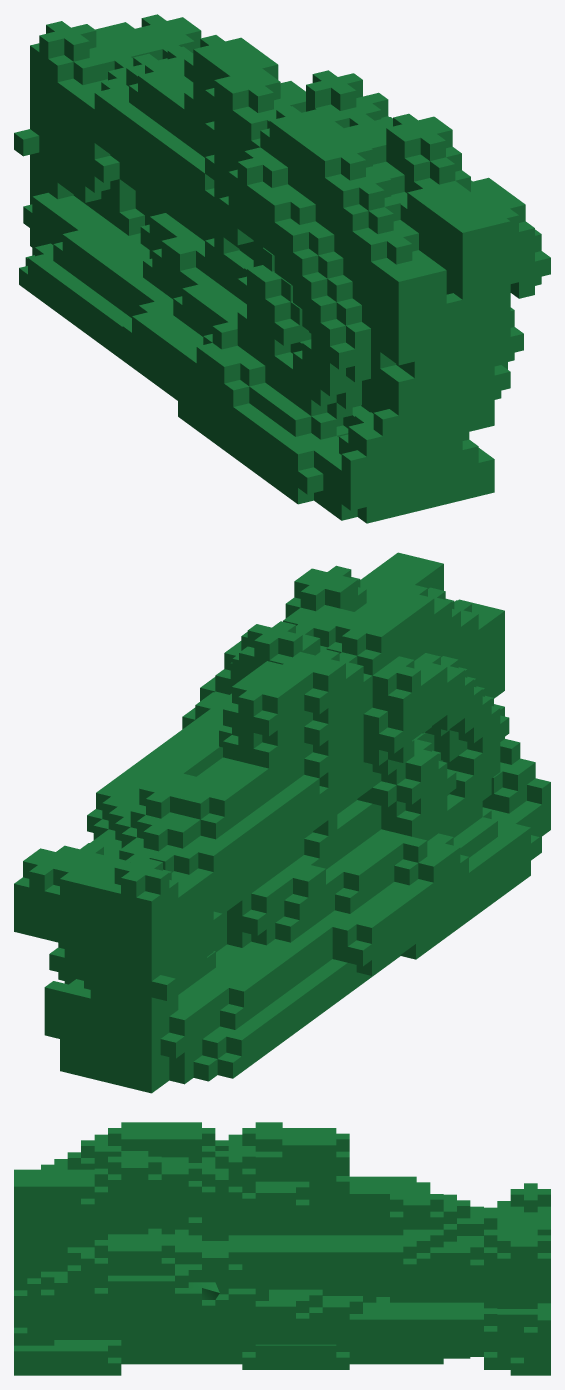
The model's file is arbusto_01.fbx.
The picture shows the model from 3 angles, top to bottom: view 1: azimuth 30°, elevation 25°; view 2: azimuth 150°, elevation 25°; view 3: azimuth 270°, elevation 25°; orthographic projection. The views are drawn at different scales.
Parts seen in each view (by area): view 1: arbusto_01; view 2: arbusto_01; view 3: arbusto_01.
Boxes of the visible parts, bbox=[...] form: arbusto_01: bbox=[14, 14, 550, 523]; arbusto_01: bbox=[14, 552, 550, 1093]; arbusto_01: bbox=[14, 1122, 550, 1375].
Bounding box in the file's own units: 170 × 180 × 400.
1 material, 1 textured.
